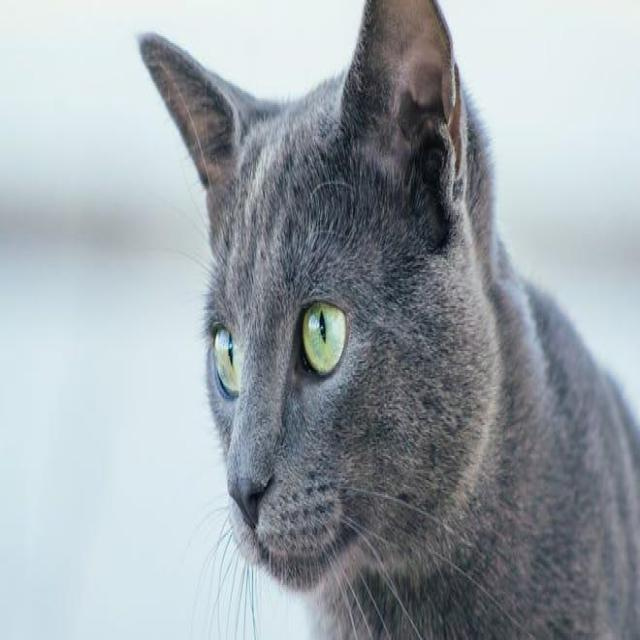Cat: (132, 7, 502, 604)
